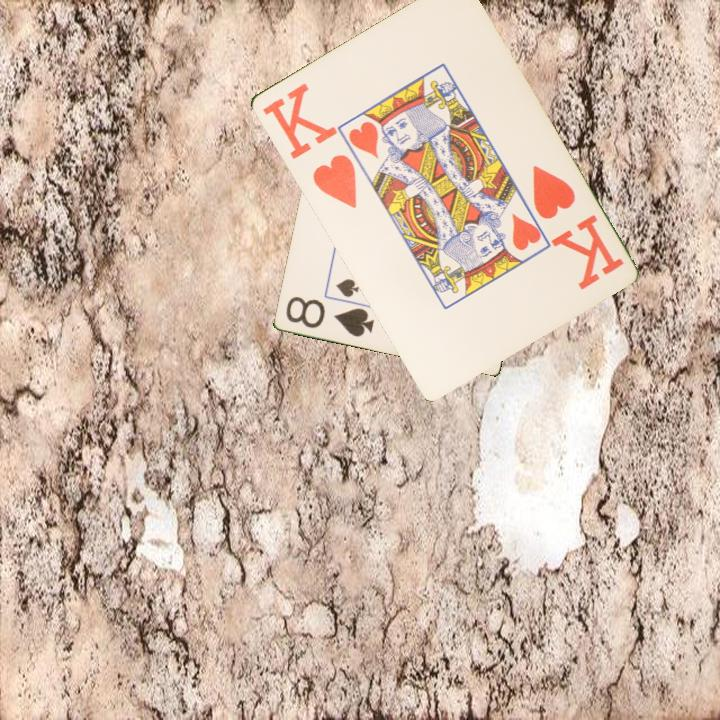8s: (283, 292, 377, 340)
Kh: (258, 79, 360, 212), (528, 161, 626, 293)
